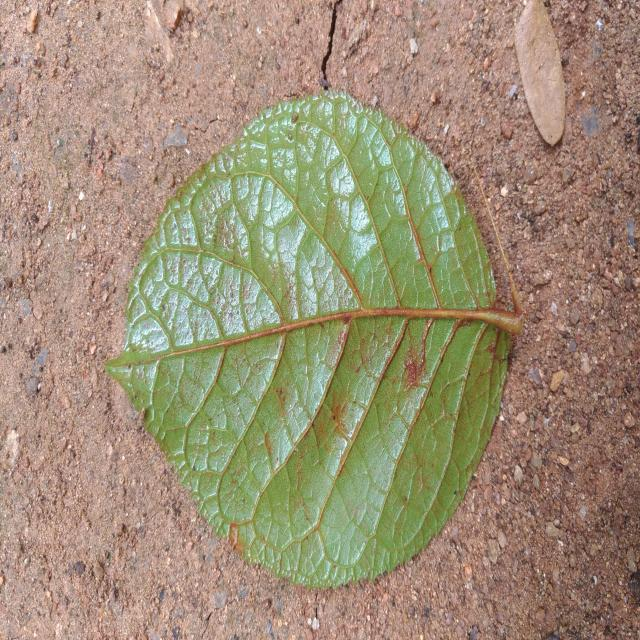padri: (108, 93, 521, 587)
